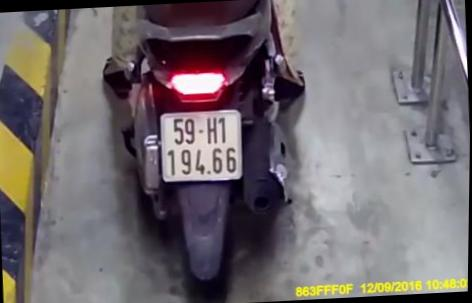LP: (157, 108, 246, 185)
